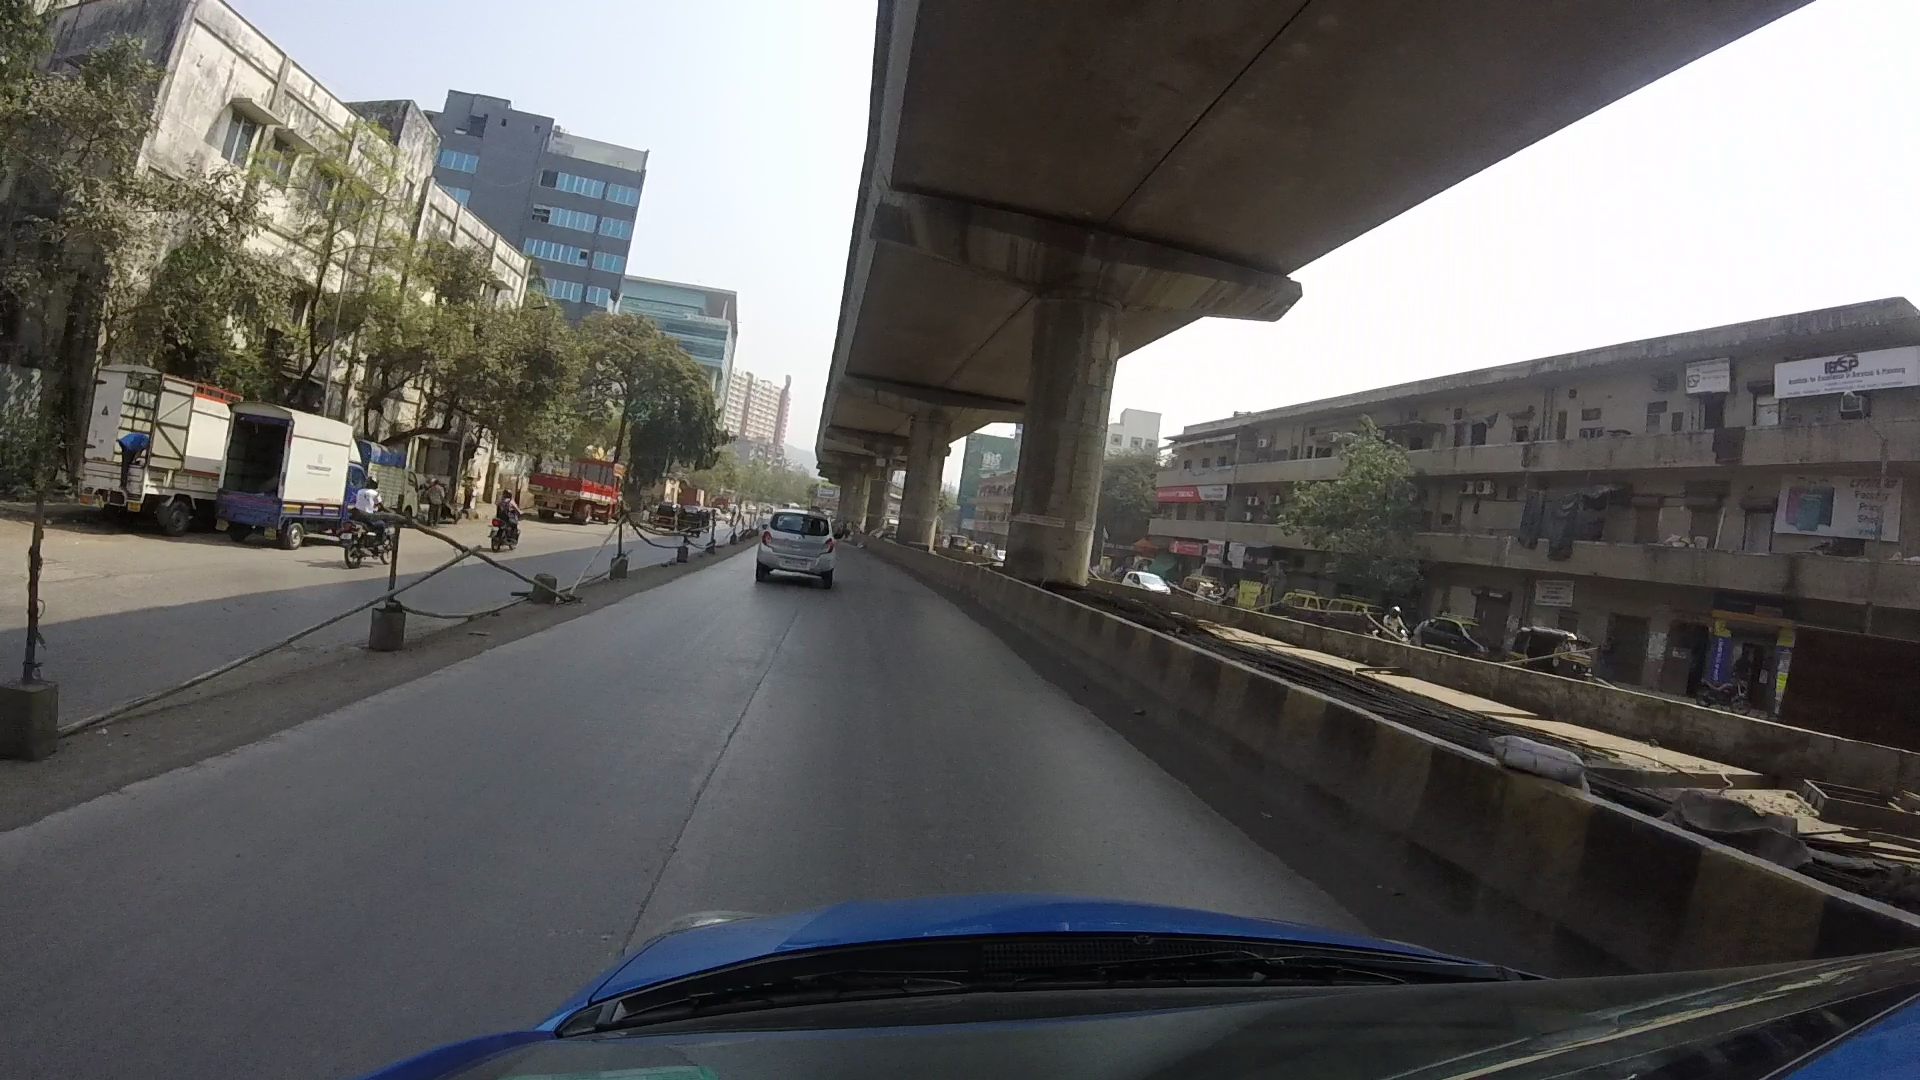bike/scooter: (323, 454, 406, 574), (475, 473, 531, 549)
car: (731, 463, 865, 592)
truck: (210, 386, 368, 549), (79, 349, 225, 516)
